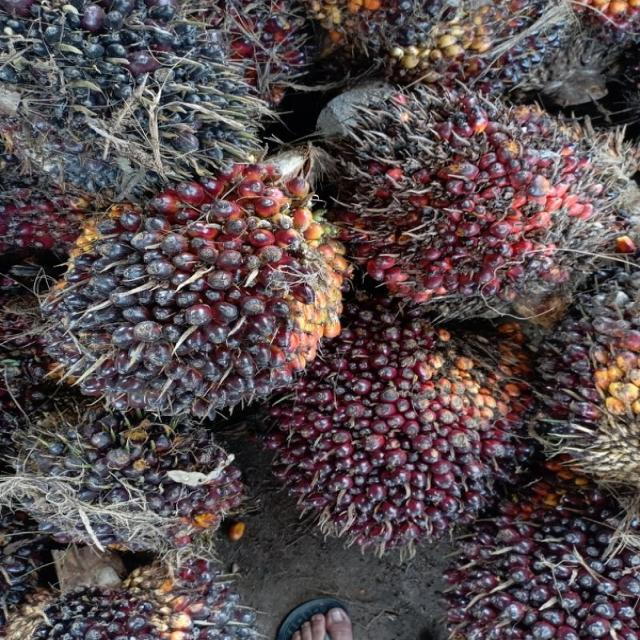fraksi 00: (0, 0, 268, 183), (15, 405, 241, 551)
fraksi 1: (55, 170, 337, 412), (290, 318, 521, 547)
fraksi 3: (317, 78, 622, 314)
